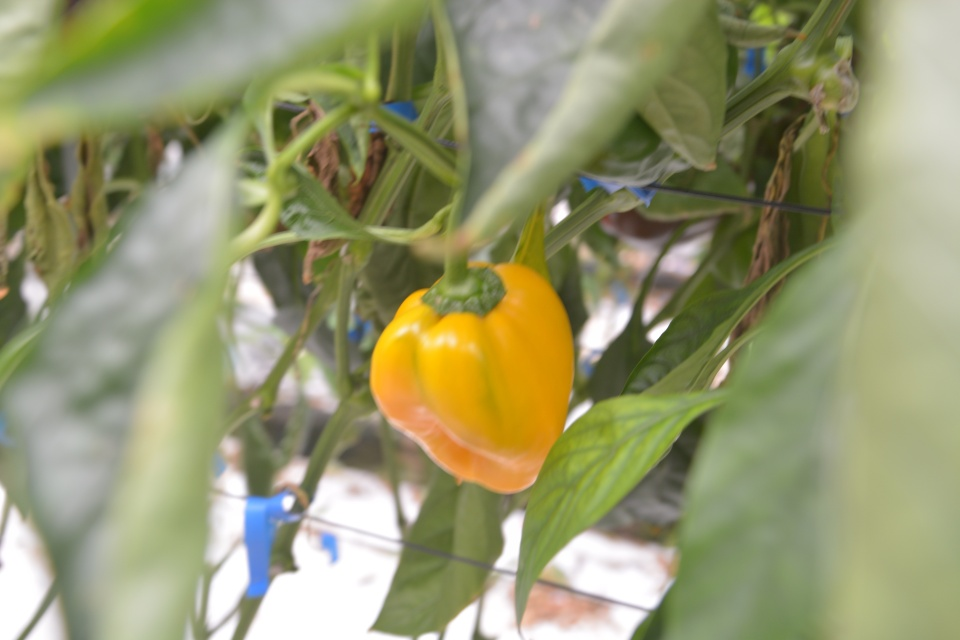fruit: (365, 253, 584, 500)
pedicle: (420, 261, 508, 319)
